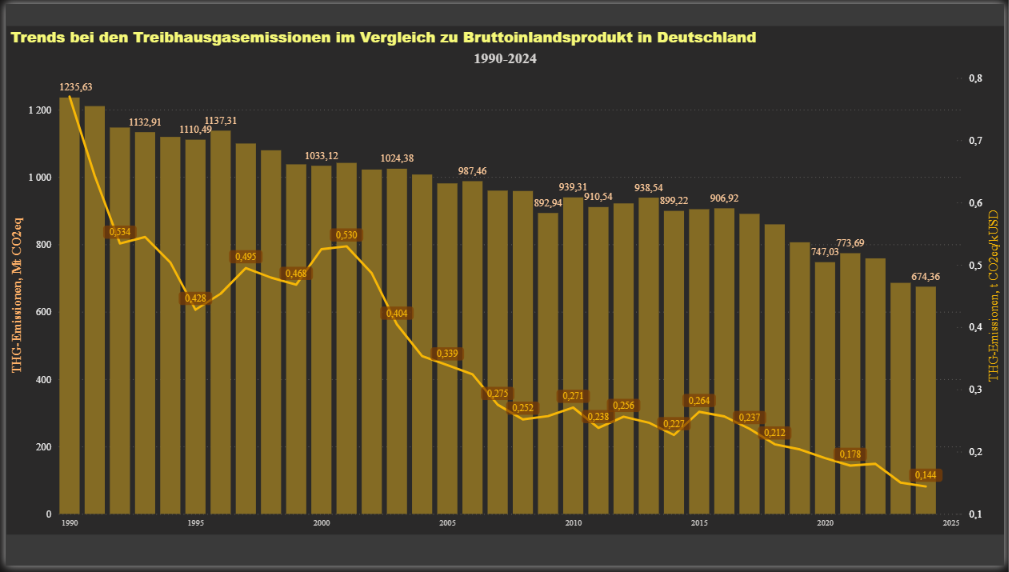

The page's visual inventory and layout, read from the dashboard file:
{"tool":"powerbi","page":{"name":"DE_THG_zu_BIP_Dynamik","canvas":[1280,720],"ordinal":4},"visuals":[{"type":"lineClusteredColumnComboChart","title":"Trends bei den Treibhausgasemissionen im Vergleich zu Bruttoinlandsprodukt in Deutschland","fields":{"Category":["dim_year.Year"],"Y":["fact_THG.THG_DE"],"Y2":["Kennzahlen.THG-DE_pro_BIP"]},"box":[1.4,28.2,1278.9,652.1],"z":0}]}

Visuals, with their boxes in screenshot pixels (x1, y1, x2, y2), scaled from the page's 1280x720 canvas onto the 1009x572 screenshot:
"Trends bei den Treibhausgasemissionen im Vergleich zu Bruttoinlandsprodukt in Deutschland" lineClusteredColumnComboChart: crop(1, 22, 1008, 540)
